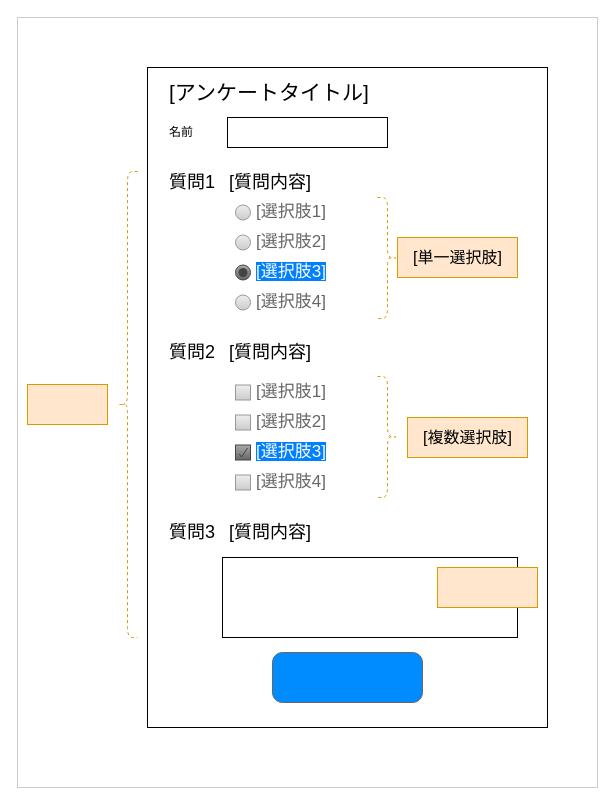
Some shapes in this 615 by 805 pixel diagram are drawn without their labels. The centre of each missing label's shape, as x and y in pixels:
"[自由入力]" goes at (x=487, y=587).
"[質問一覧]" goes at (x=67, y=404).
"登録" goes at (x=347, y=677).
